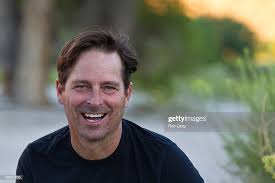white_male: (66, 62, 123, 129)
